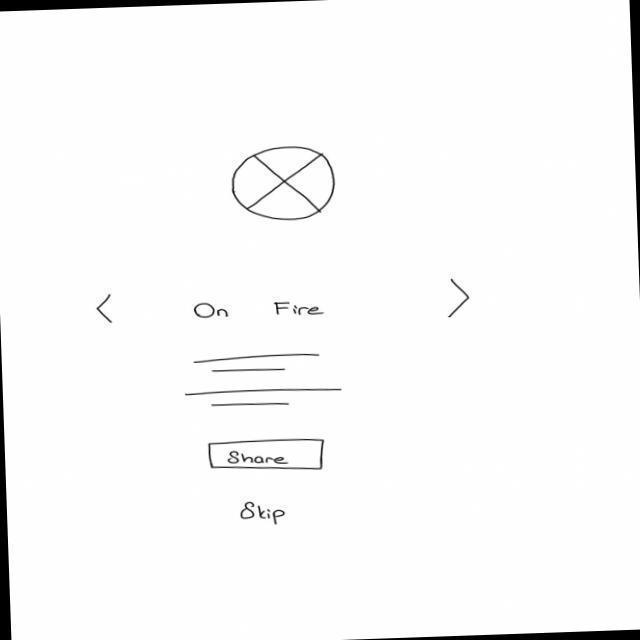button: (208, 438, 328, 475)
image: (228, 145, 339, 225)
label: (237, 499, 290, 529)
link: (94, 275, 473, 335)
textbox: (181, 350, 345, 413)
